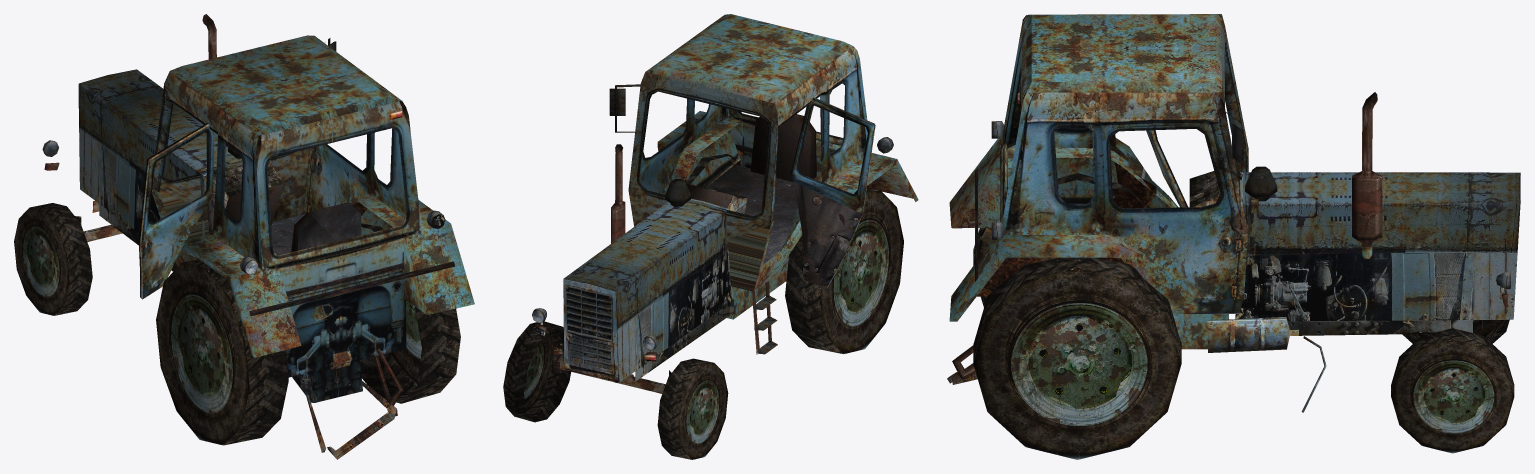
Rendered from tractor_mtz_01_lod2.fbx.
The picture shows the model from 3 angles, left to right: view 1: azimuth 30°, elevation 25°; view 2: azimuth 150°, elevation 25°; view 3: azimuth 270°, elevation 25°; orthographic projection. The views are drawn at different scales.
Visible parts, largest first — view 1: 1; view 2: 1; view 3: 1.
Part boxes in pixels (x1=…): 1: x1=14, y1=14, x2=474, y2=459; 1: x1=503, y1=14, x2=918, y2=459; 1: x1=947, y1=14, x2=1520, y2=459.
Size of the model in its own units: 1.66 by 2.03 by 2.98.
